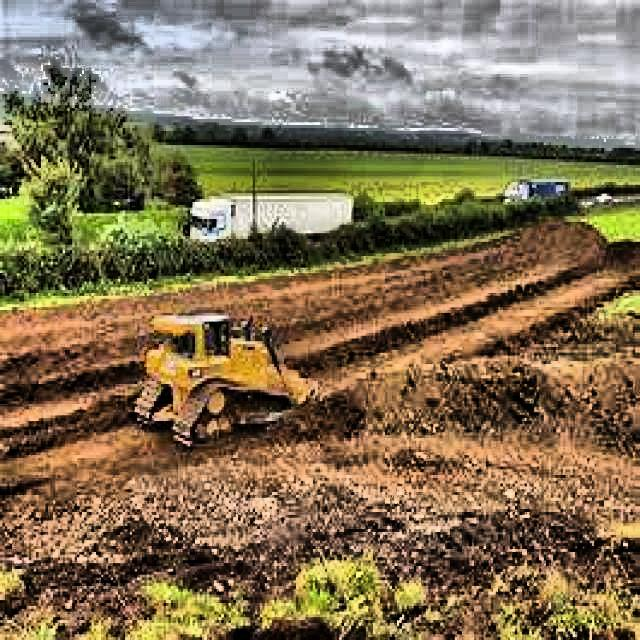bull_dozer/loader/grader: (125, 298, 332, 458)
